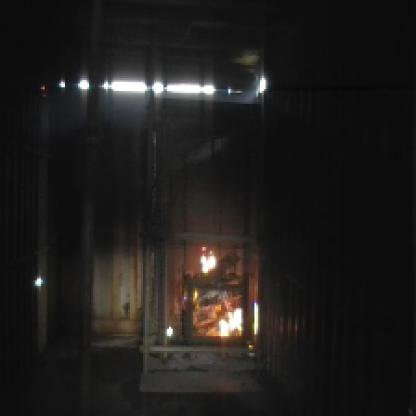Fire: (176, 242, 268, 346)
